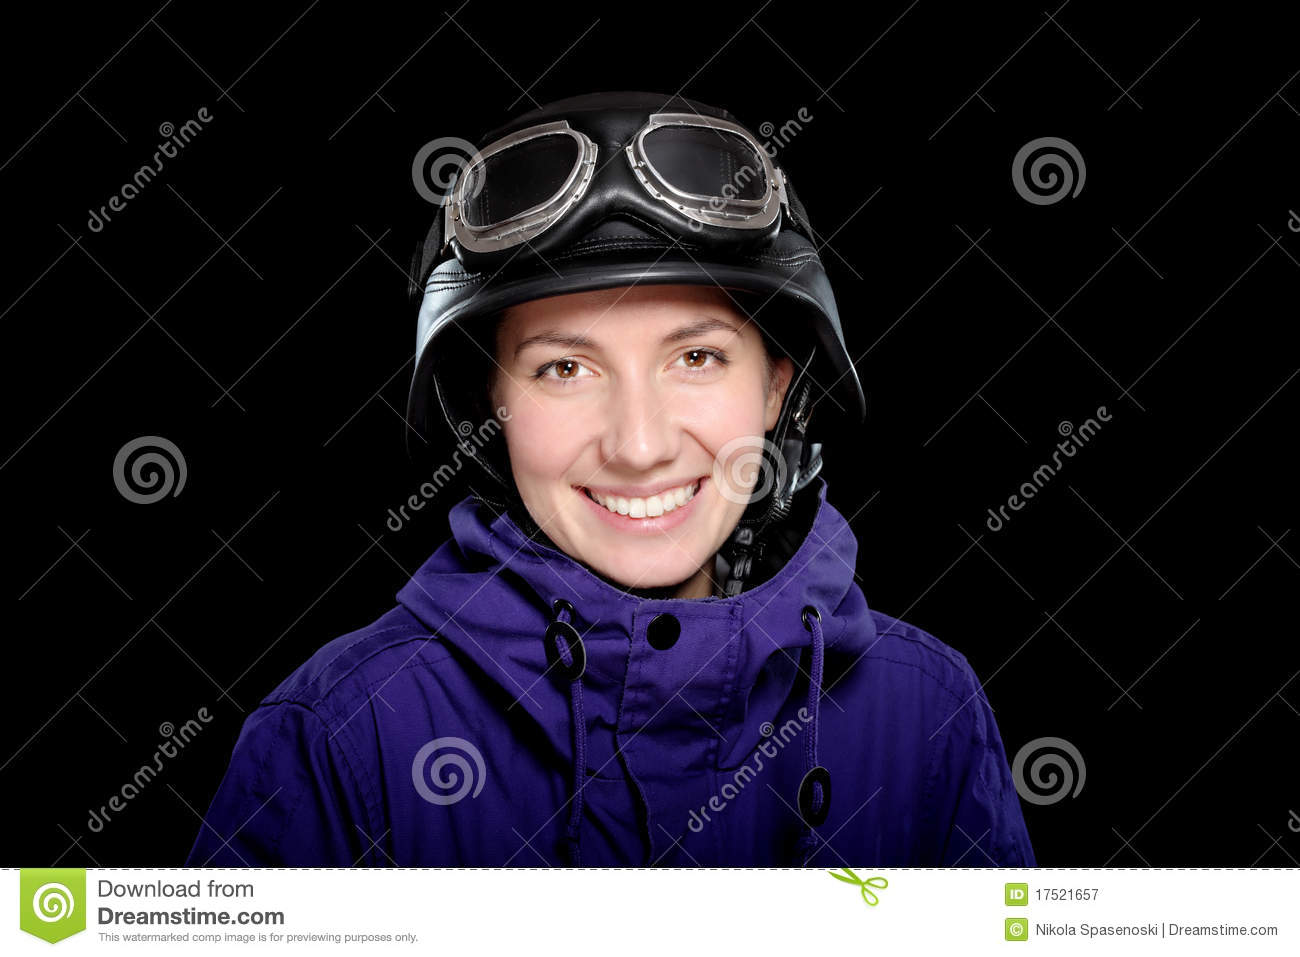helmet: (398, 107, 851, 376)
